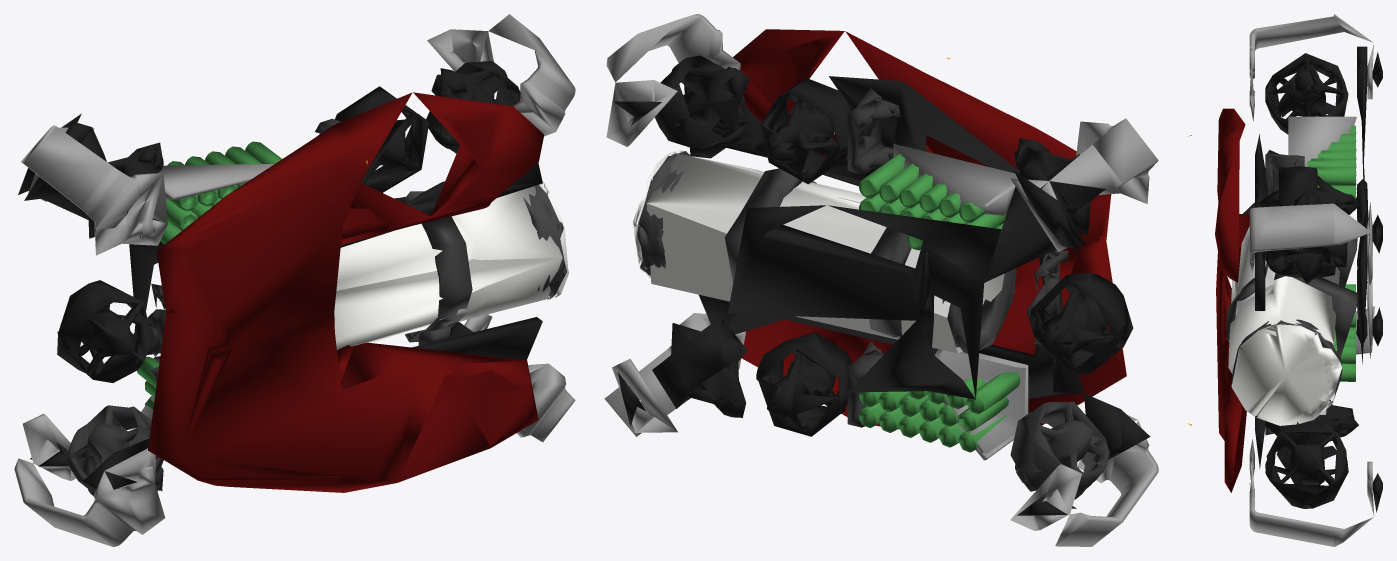
File: sauvc_2027_v1.obj
3 renders of one model, left to right at view 1: azimuth 30°, elevation 25°; view 2: azimuth 150°, elevation 25°; view 3: azimuth 270°, elevation 25°, orthographic. The views are drawn at different scales.
Parts seen in each view (by area): view 1: part_55, part_57, part_61, part_20, part_59, part_49, part_19, part_26, part_58; view 2: part_61, part_57, part_55, part_20, part_19, part_59, part_26, part_49, part_58; view 3: part_61, part_20, part_57, part_55, part_19, part_49, part_59, part_26.
Part boxes in pixels (box(x1,y1,x2,y2)): part_55: box(148, 92, 544, 492); part_57: box(14, 14, 575, 546); part_61: box(18, 61, 542, 489); part_20: box(334, 182, 568, 349); part_59: box(68, 118, 340, 495); part_49: box(394, 191, 472, 345); part_19: box(137, 141, 281, 408); part_26: box(523, 185, 566, 299); part_58: box(147, 283, 165, 382); part_61: box(613, 55, 1150, 515); part_57: box(604, 14, 1158, 546); part_55: box(733, 29, 1126, 429); part_20: box(633, 150, 1004, 353); part_19: box(859, 154, 1020, 452); part_59: box(847, 88, 1109, 499); part_26: box(637, 151, 1016, 353); part_49: box(725, 168, 934, 349); part_58: box(1026, 250, 1068, 354); part_61: box(1255, 46, 1382, 512); part_20: box(1228, 226, 1341, 425); part_57: box(1249, 14, 1374, 546); part_55: box(1215, 108, 1249, 492); part_19: box(1307, 125, 1356, 381); part_49: box(1226, 238, 1357, 357); part_59: box(1265, 150, 1304, 435); part_26: box(1231, 202, 1342, 422).
Size of the model in its own units: 0.5185 by 0.3869 by 0.2.
